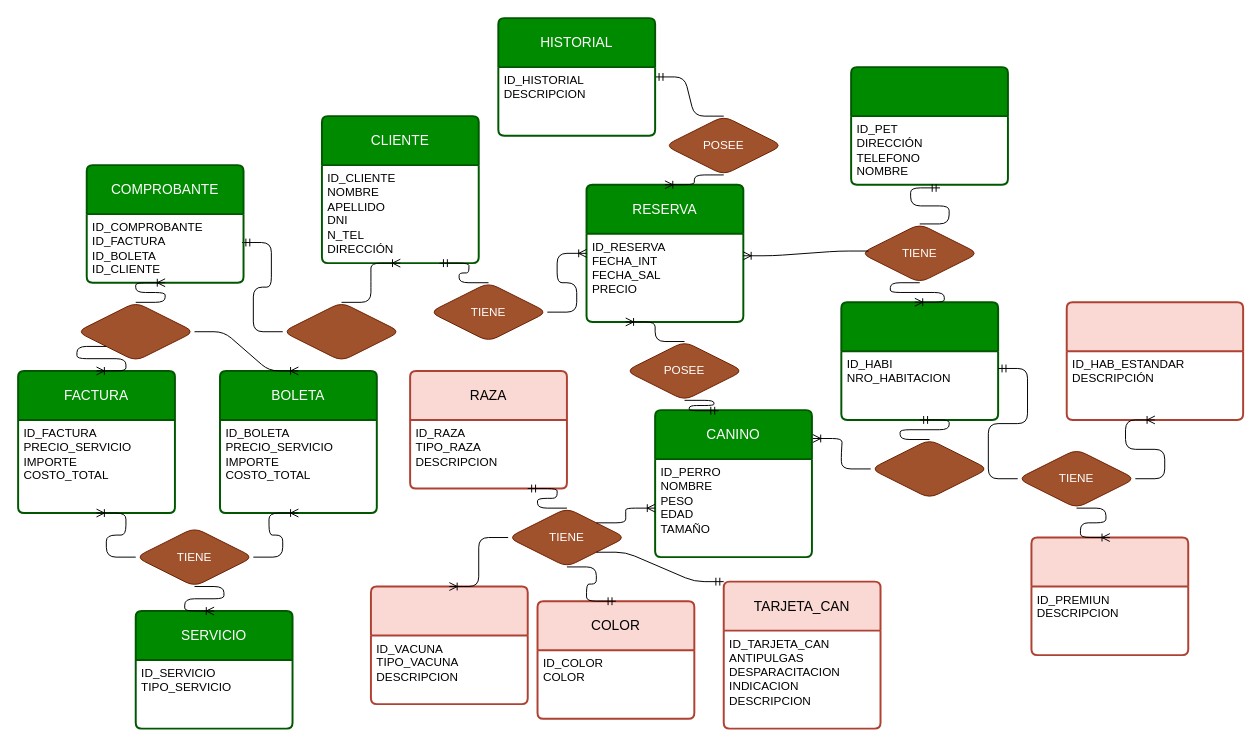
This 1260x746 diagram has some shape labels left out. Each missing label, with the box of its shape:
COMPRUEBA: (76, 301, 195, 361)
HABITACIÓN_CANINA: (840, 301, 999, 420)
HABITACIÓN_ESTÁNDAR: (1065, 301, 1244, 420)
HABITACIÓN_PREMIUM: (1030, 536, 1189, 656)
HOSPEDA: (870, 439, 988, 498)
PET_HOTEL: (850, 66, 1008, 185)
RECIBE: (282, 301, 400, 361)
VACUNAS: (369, 585, 528, 705)
